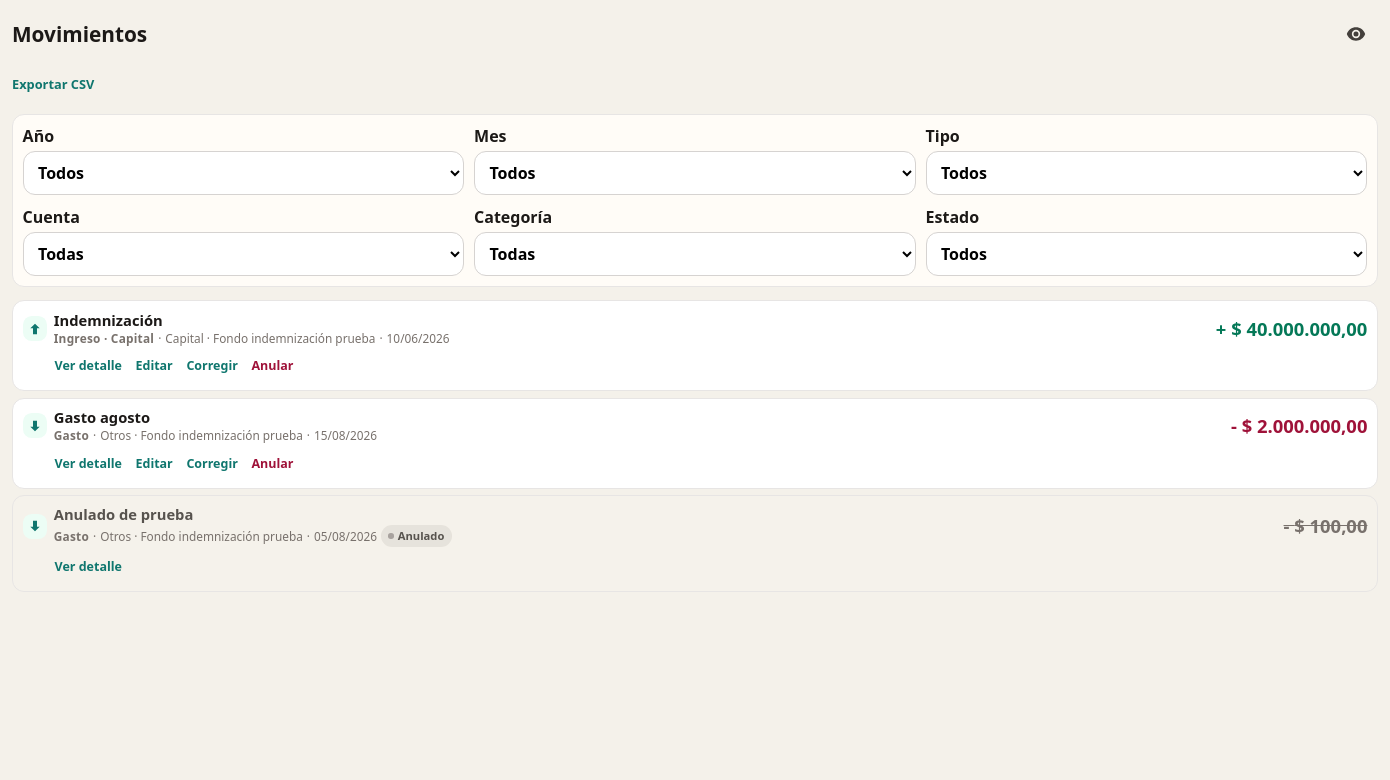
Test case: TransactionsPage › lists date, type, amount, currency, account, category, incomeKind and status
Expected: the text "15/08/2026" is shown, [314, 428, 377, 444]
Expected: the text "10/06/2026" is shown, [387, 331, 450, 346]
Click the button "Ver detalle" below "Ingreso · Capital" at (88, 367), box [55, 353, 122, 381]
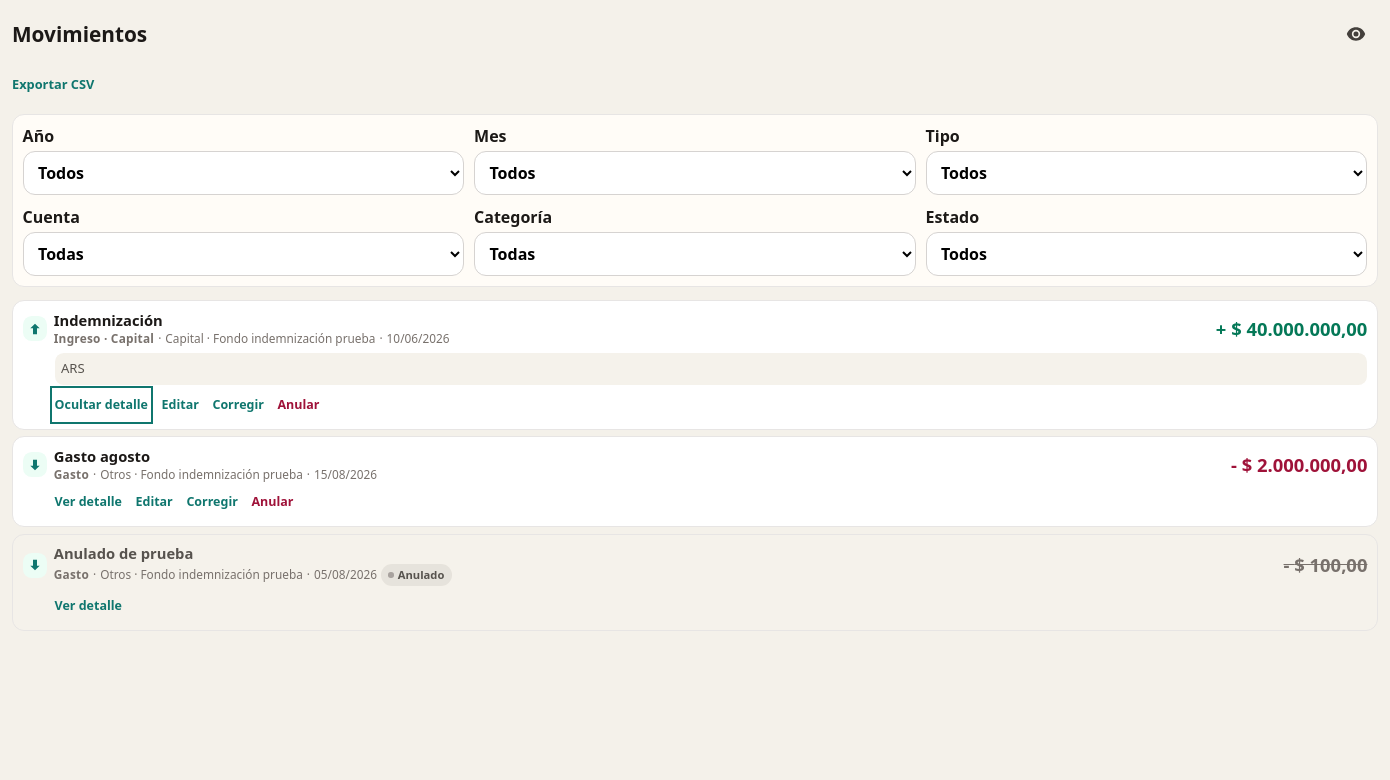
Now the text "ARS" is shown, box [61, 359, 85, 377]
